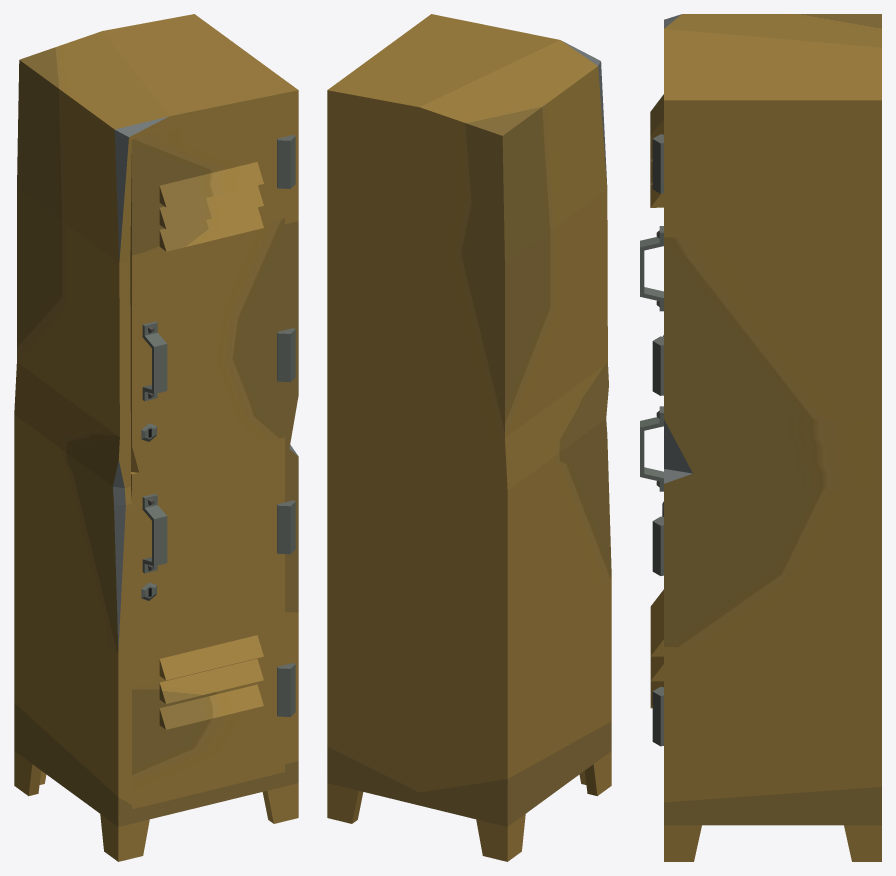
The model's file is SM_Locker_Yellow.fbx.
The picture shows the model from 3 angles, left to right: view 1: azimuth 30°, elevation 25°; view 2: azimuth 150°, elevation 25°; view 3: azimuth 270°, elevation 25°; orthographic projection. The views are drawn at different scales.
Visible parts, largest first — view 1: SM_Locker_Yellow, SM_Locker_Door_Up_Yellow, SM_Locker_Door_Bot_Yellow; view 2: SM_Locker_Yellow; view 3: SM_Locker_Yellow, SM_Locker_Door_Bot_Yellow, SM_Locker_Door_Up_Yellow.
Boxes of the visible parts, box(x1,y1,x2,y2) form: SM_Locker_Yellow: box(14, 14, 298, 861); SM_Locker_Door_Up_Yellow: box(130, 102, 295, 472); SM_Locker_Door_Bot_Yellow: box(131, 437, 295, 809); SM_Locker_Yellow: box(327, 14, 611, 861); SM_Locker_Yellow: box(664, 14, 881, 861); SM_Locker_Door_Bot_Yellow: box(640, 406, 663, 746); SM_Locker_Door_Up_Yellow: box(640, 94, 663, 395).
Bounding box in the file's own units: 54.05 × 210 × 60.01.
